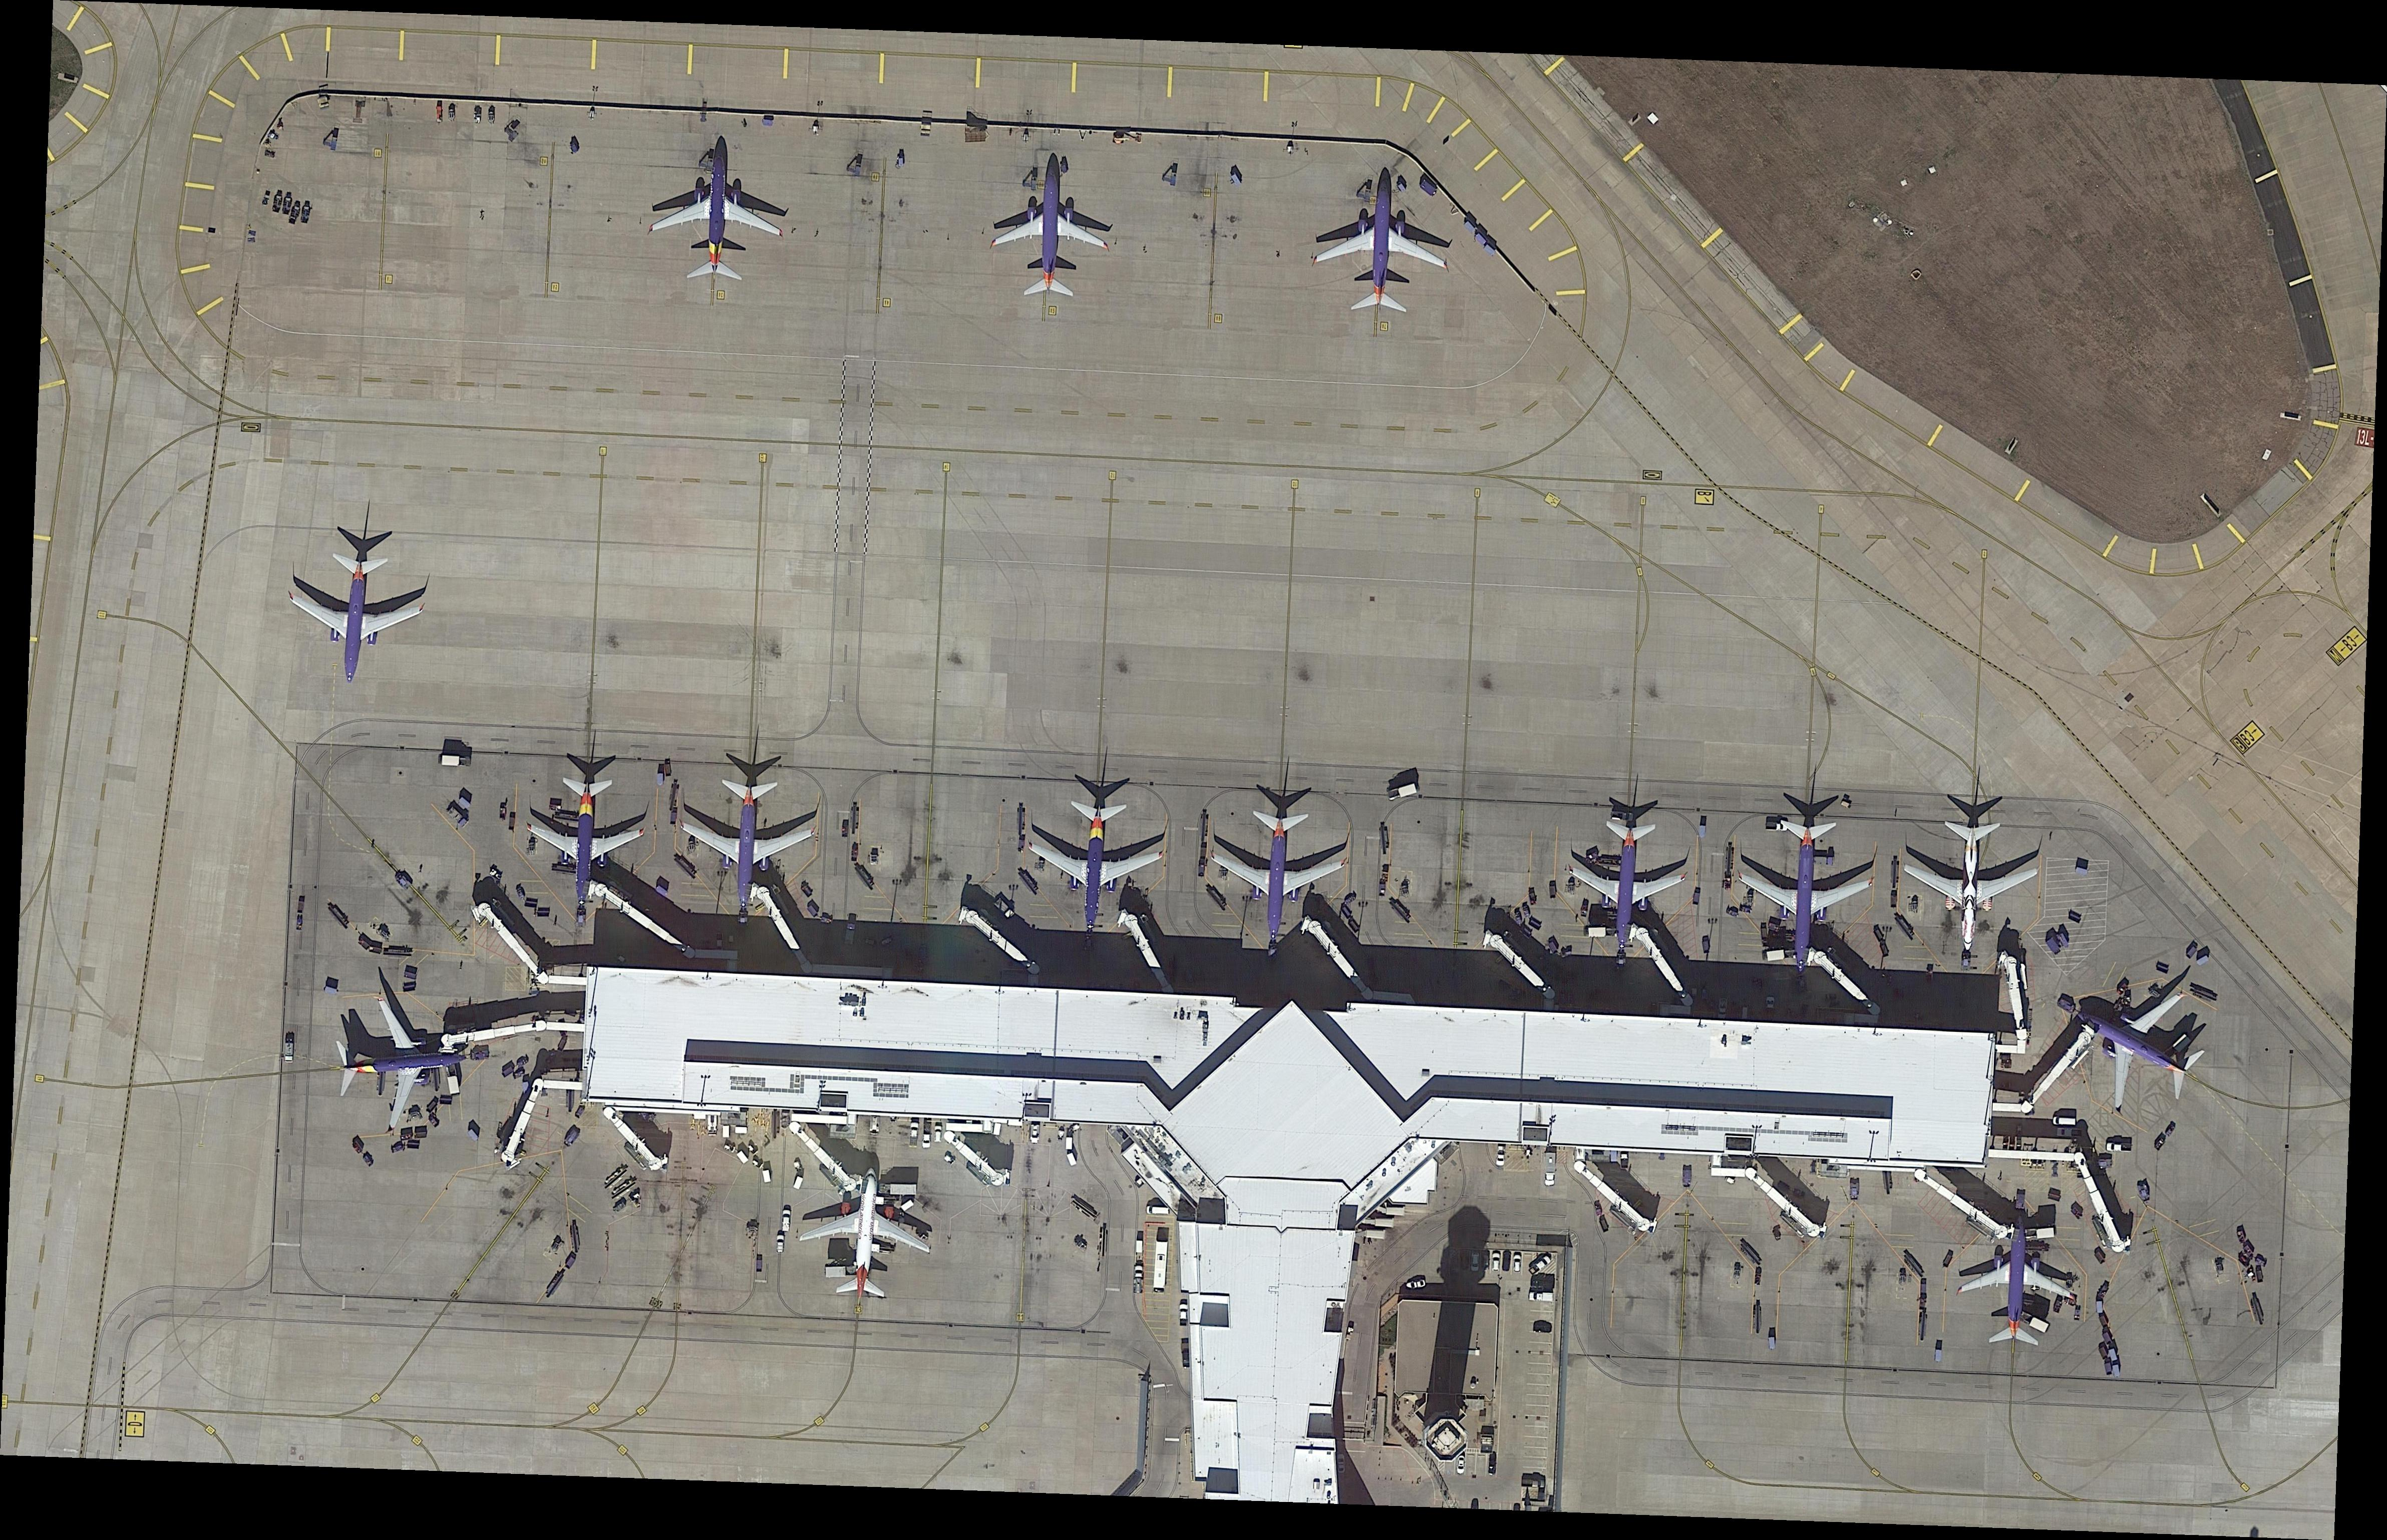plane: (2043, 955, 2223, 1136), (1728, 814, 1881, 980), (1199, 802, 1354, 950), (1018, 790, 1176, 933), (673, 773, 819, 915), (1898, 816, 2044, 957), (1314, 167, 1448, 313), (1559, 814, 1691, 957), (285, 550, 428, 682), (651, 148, 783, 280), (338, 997, 470, 1128), (1954, 1211, 2077, 1350), (802, 1166, 931, 1296), (522, 774, 647, 905), (990, 164, 1110, 296), (1153, 1241, 1169, 1293)
